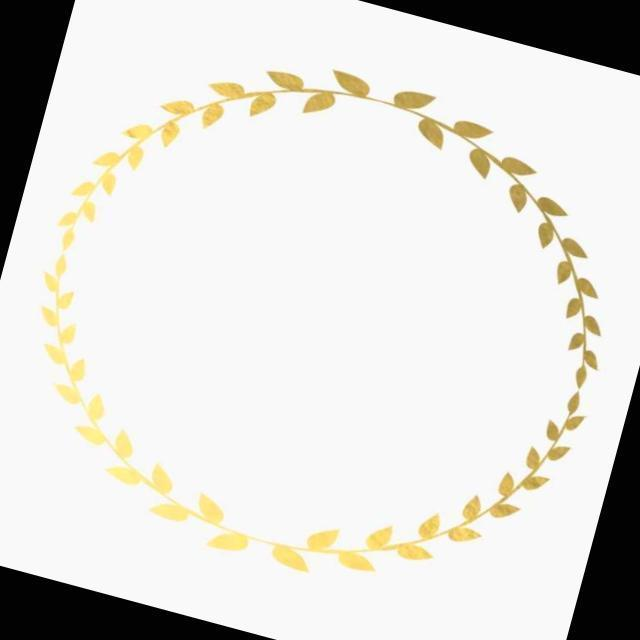Circle: (27, 59, 606, 586)
